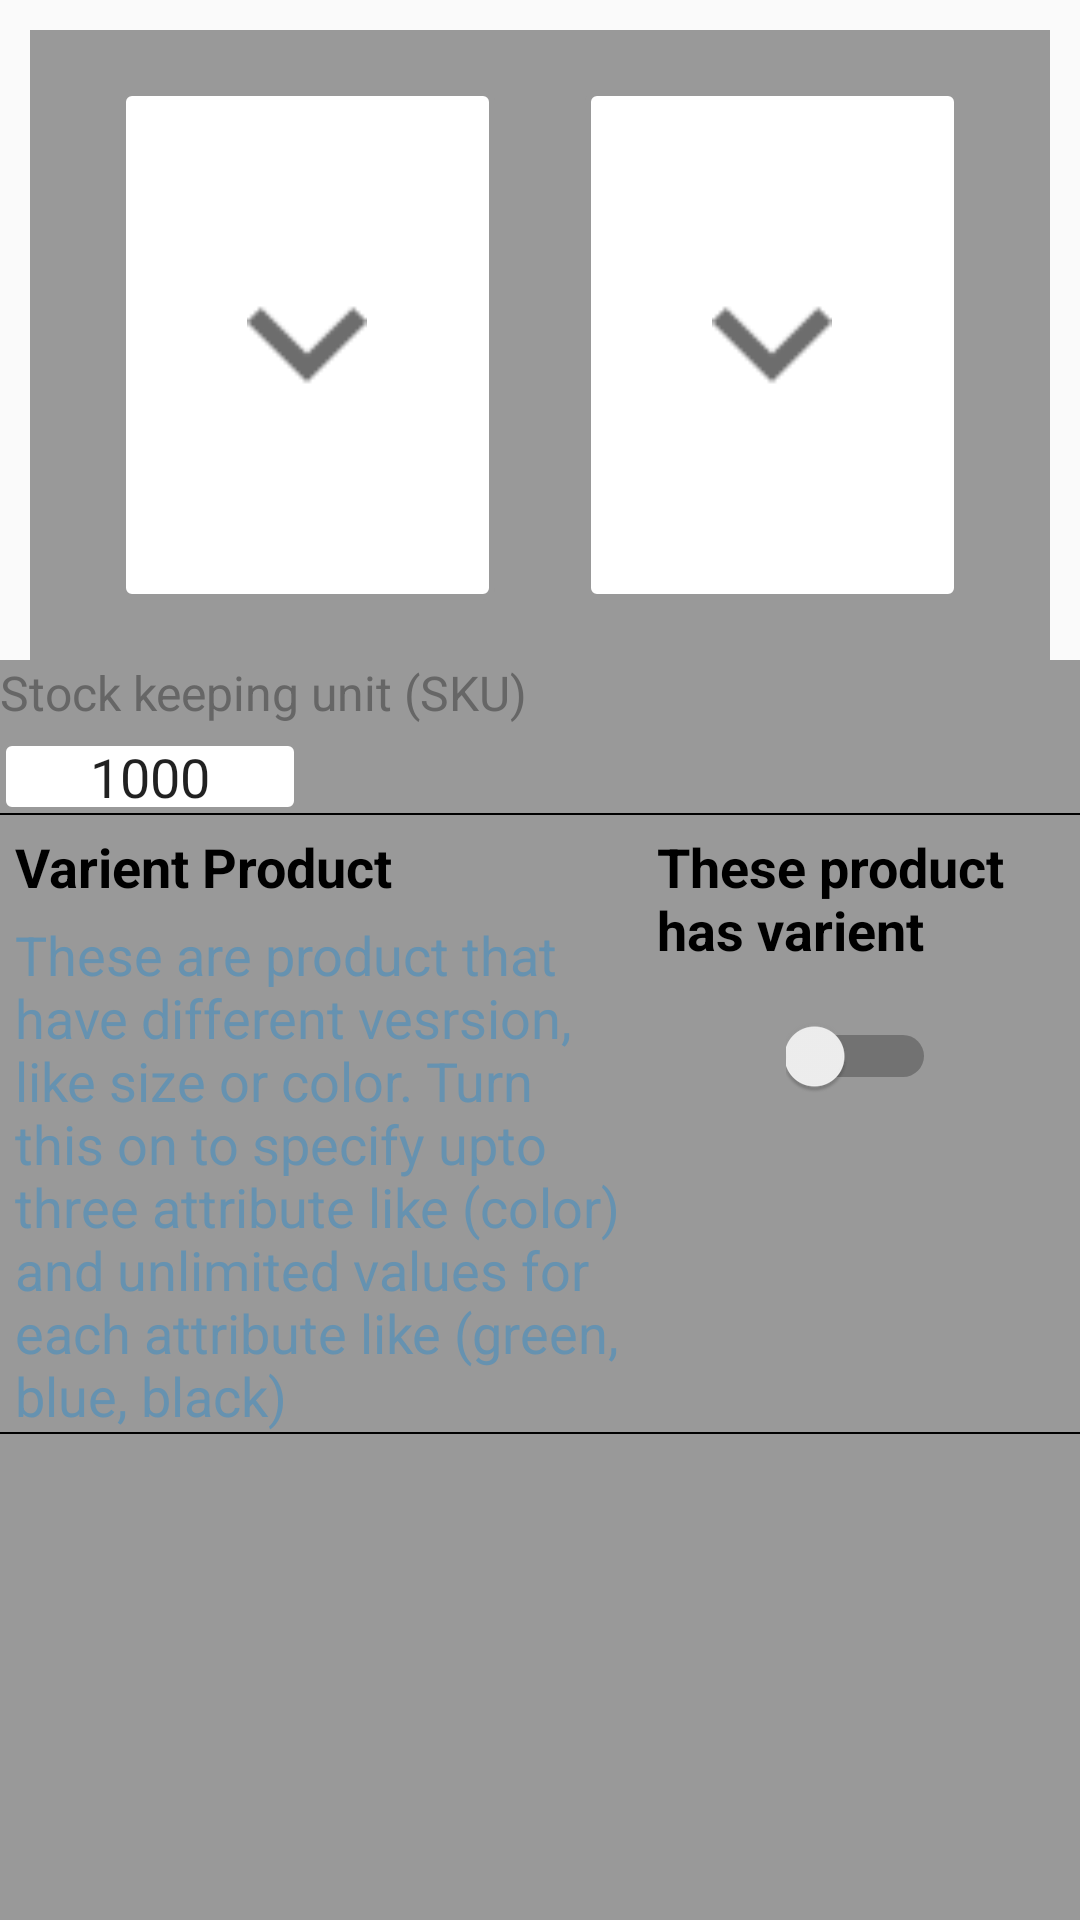

Locate icon controls on the screen. Image size 1080 × 1920, boxes as [left=x1, top=y1, right=x2, bottom=y2].
expand: [left=247, top=307, right=367, bottom=383], [left=712, top=307, right=832, bottom=383]
